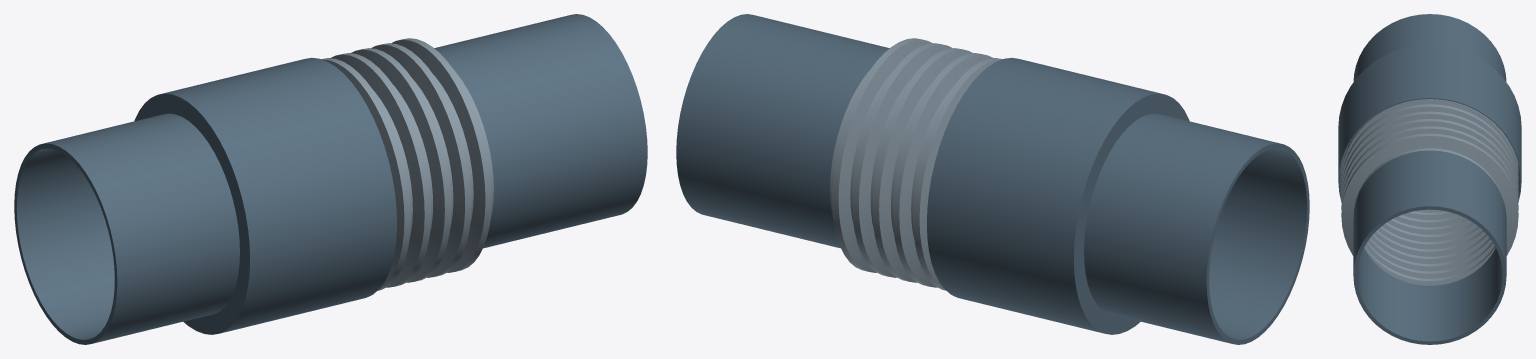
File: silf-dn300-L965-D325-k-o530.glb
The picture shows the model from 3 angles, left to right: view 1: azimuth 30°, elevation 25°; view 2: azimuth 150°, elevation 25°; view 3: azimuth 270°, elevation 25°; orthographic projection. The views are drawn at different scales.
Visible parts, largest first — view 1: osnovanie_kozhuh_1, patrubok_1, patrubok_2, prokladka_silfon_1; view 2: osnovanie_kozhuh_1, patrubok_1, patrubok_2, prokladka_silfon_1; view 3: patrubok_2, prokladka_silfon_1, osnovanie_kozhuh_1, patrubok_1.
Boxes of the visible parts, x1,y1,x2,y2 form: osnovanie_kozhuh_1: [134, 57, 396, 334]; patrubok_1: [14, 113, 239, 344]; patrubok_2: [434, 14, 647, 248]; prokladka_silfon_1: [321, 38, 493, 290]; osnovanie_kozhuh_1: [927, 57, 1189, 334]; patrubok_1: [1084, 113, 1309, 344]; patrubok_2: [676, 14, 889, 248]; prokladka_silfon_1: [830, 38, 1002, 290]; patrubok_2: [1353, 150, 1506, 344]; prokladka_silfon_1: [1341, 99, 1518, 285]; osnovanie_kozhuh_1: [1338, 44, 1521, 200]; patrubok_1: [1353, 14, 1506, 81].
Size of the model in its own units: 965 by 389 by 389.
